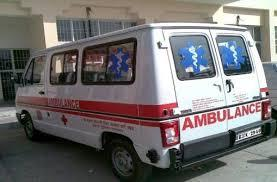Emergency-Vehicles: (0, 12, 275, 181)
